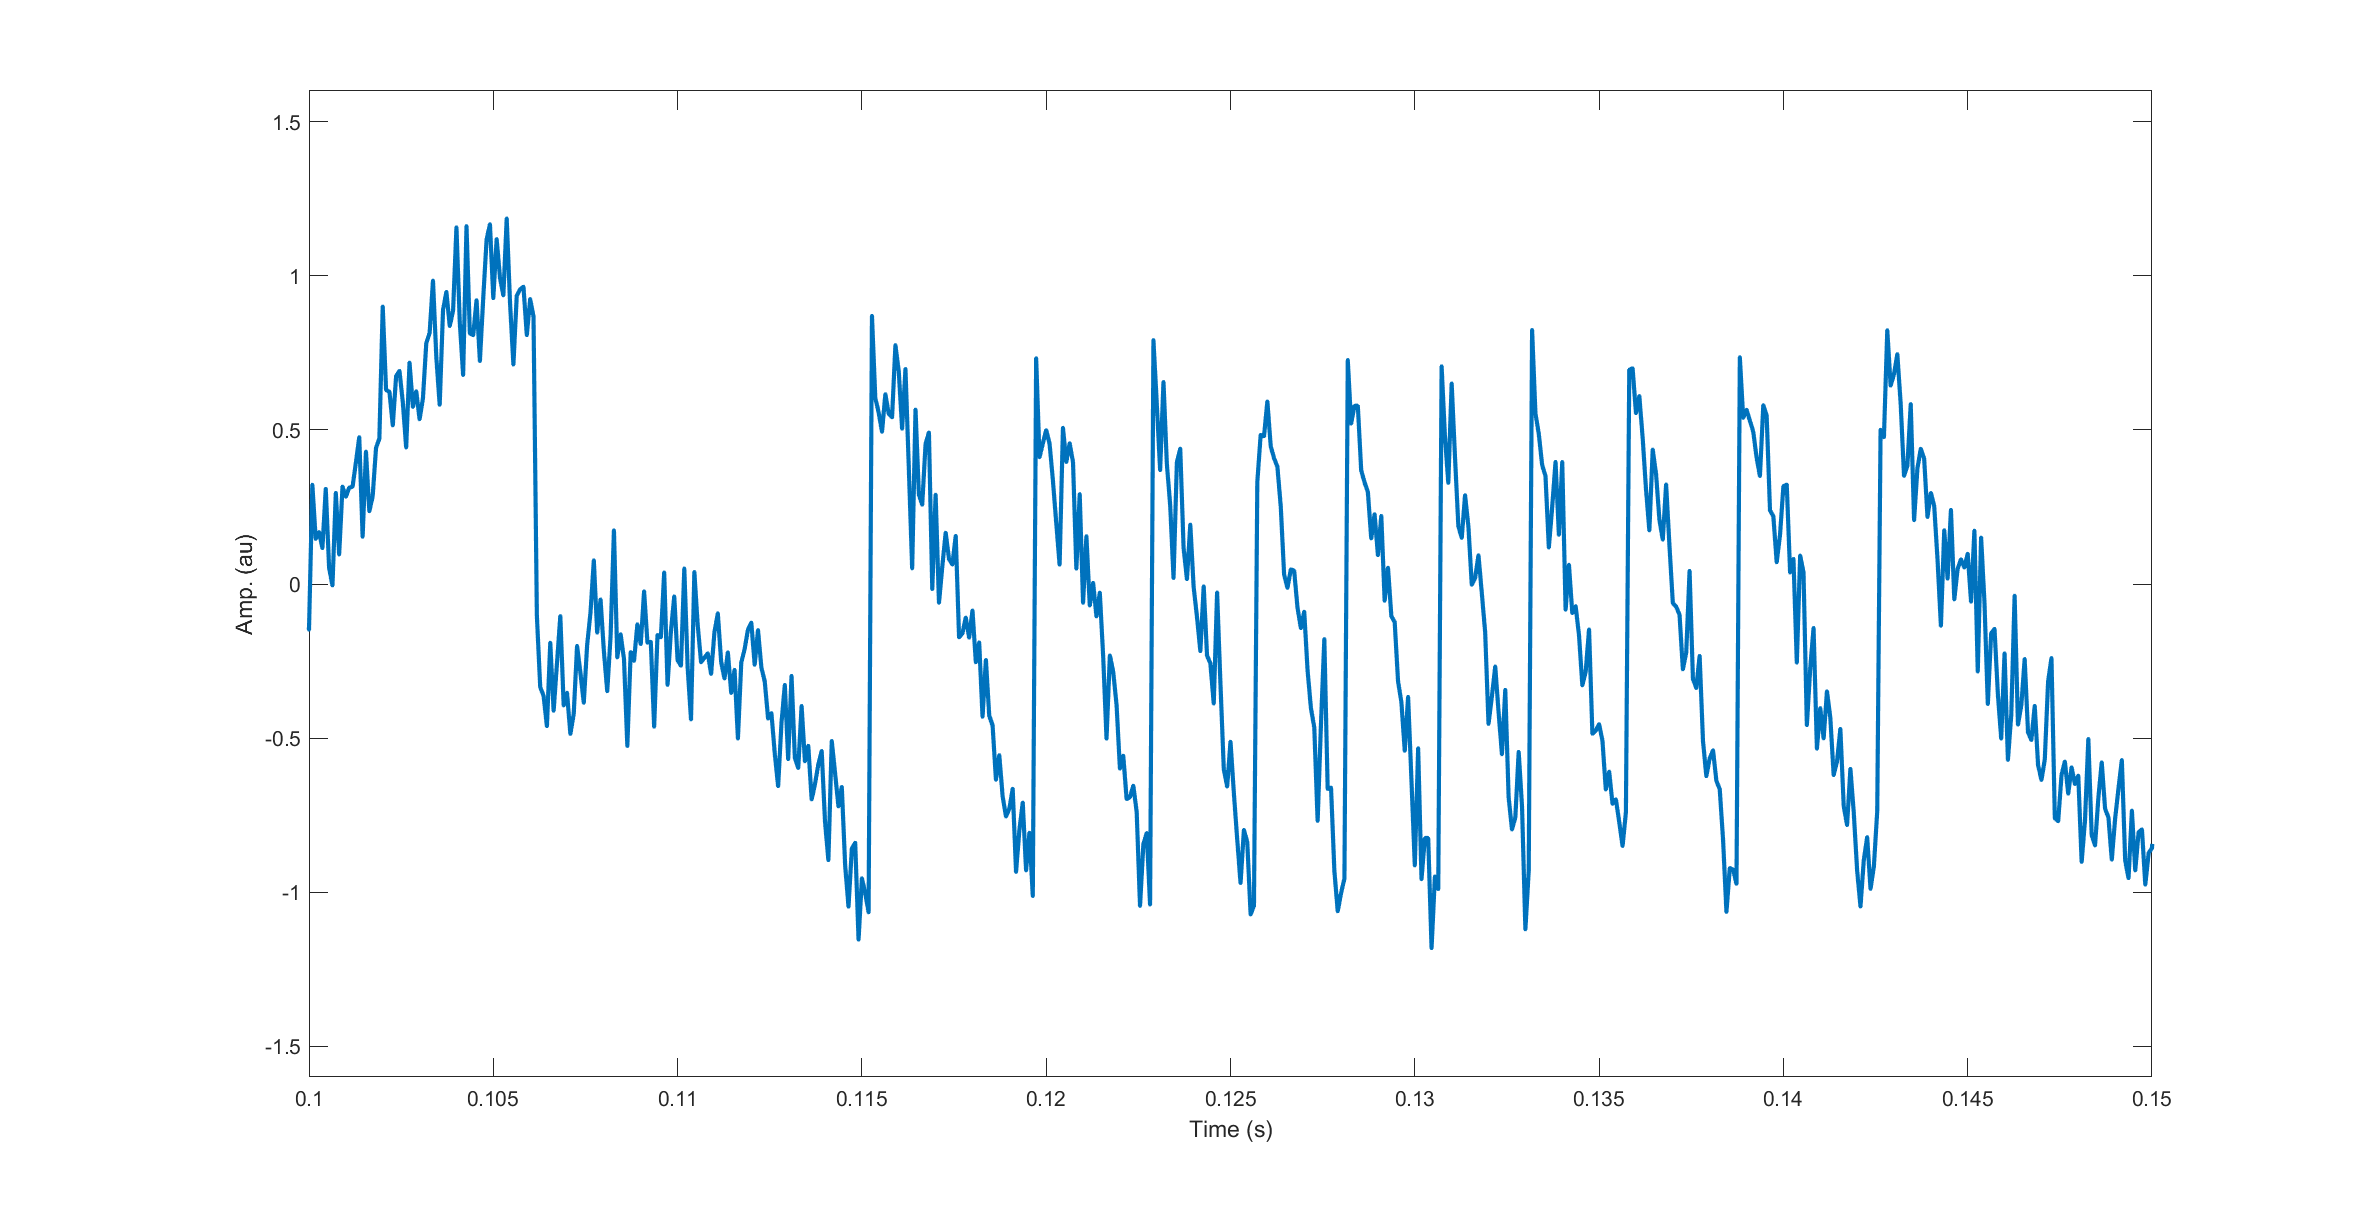negative_fringe: (856, 306, 1009, 900), (1867, 316, 2018, 907), (1727, 352, 1860, 889), (1137, 329, 1233, 924), (1023, 324, 1122, 898), (1518, 312, 1613, 903), (1619, 352, 1716, 898), (1424, 357, 1509, 955), (1333, 349, 1421, 900), (1247, 370, 1322, 891)
positive_fringe: (339, 213, 549, 715)
